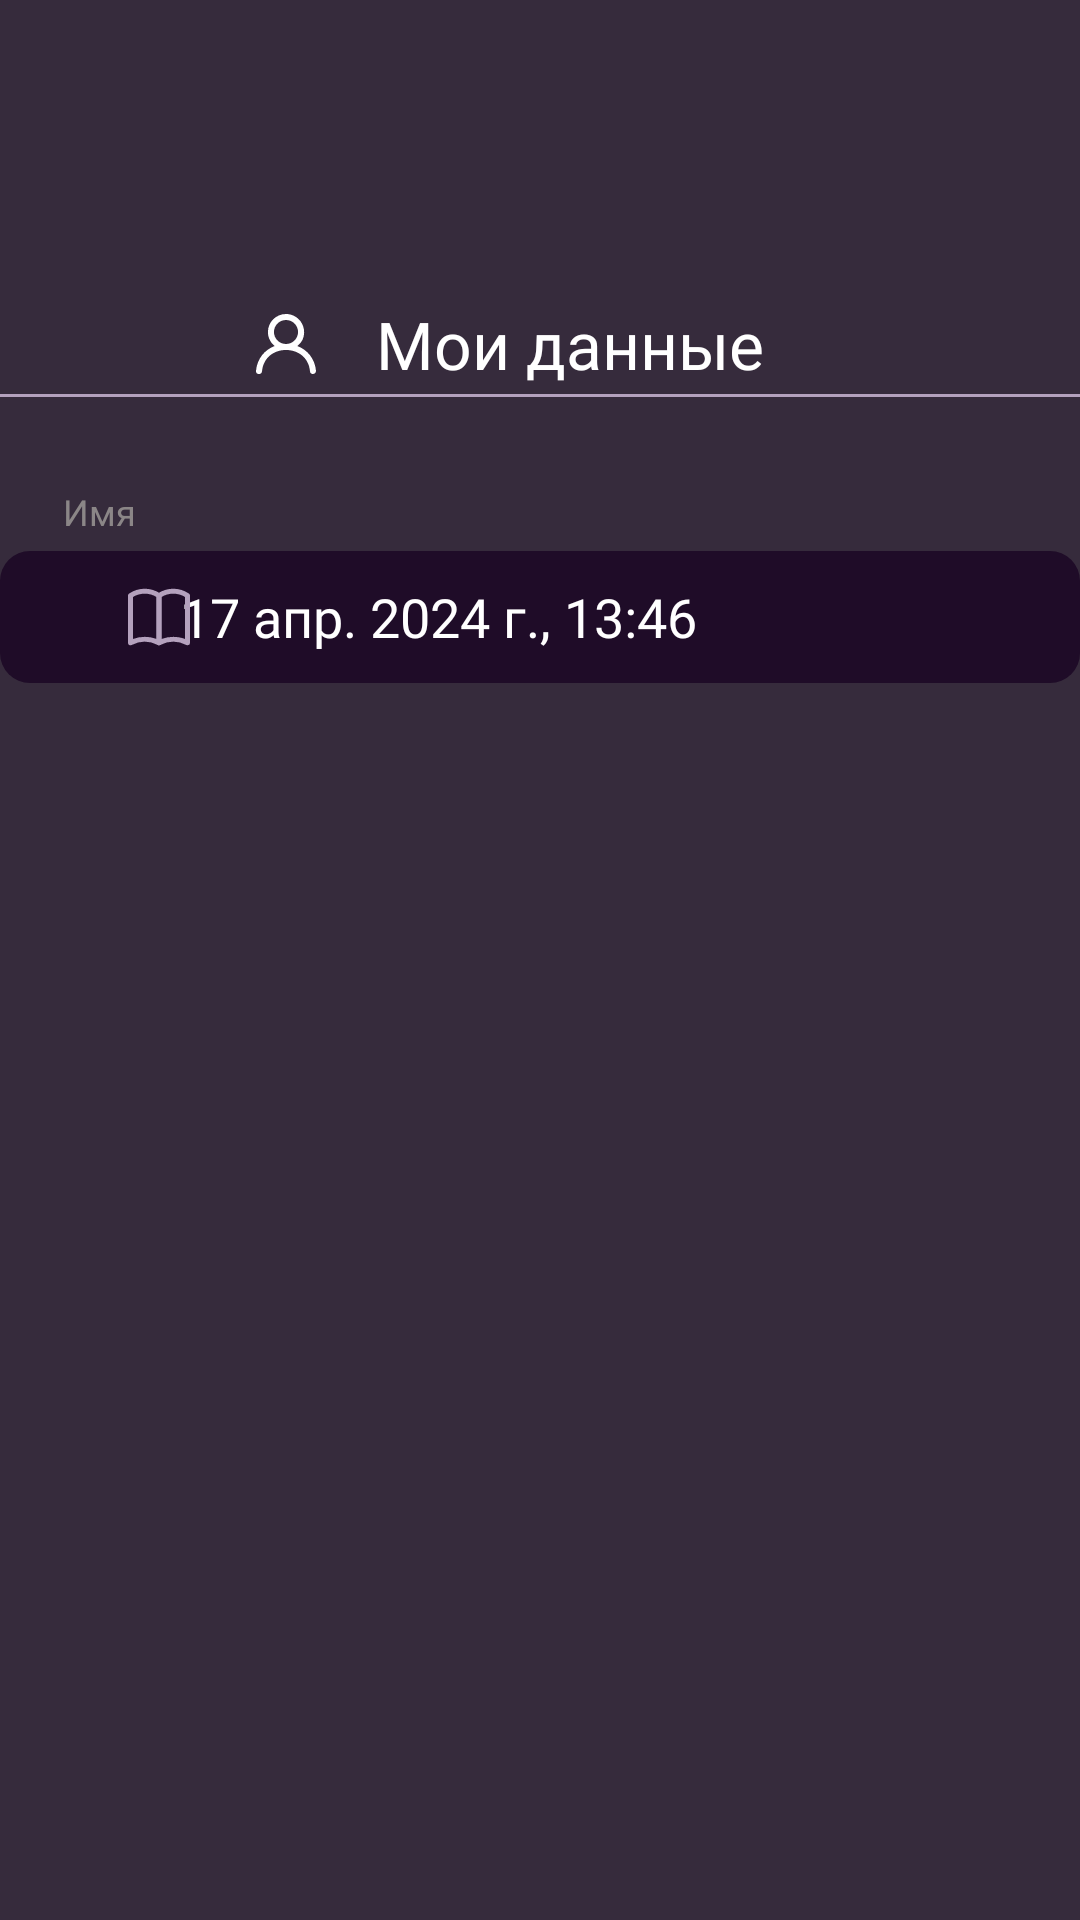

Icon click points for this 1080×1920 phone screenshot, format point (x, y):
book: point (161, 617)
profile: point (286, 344)
